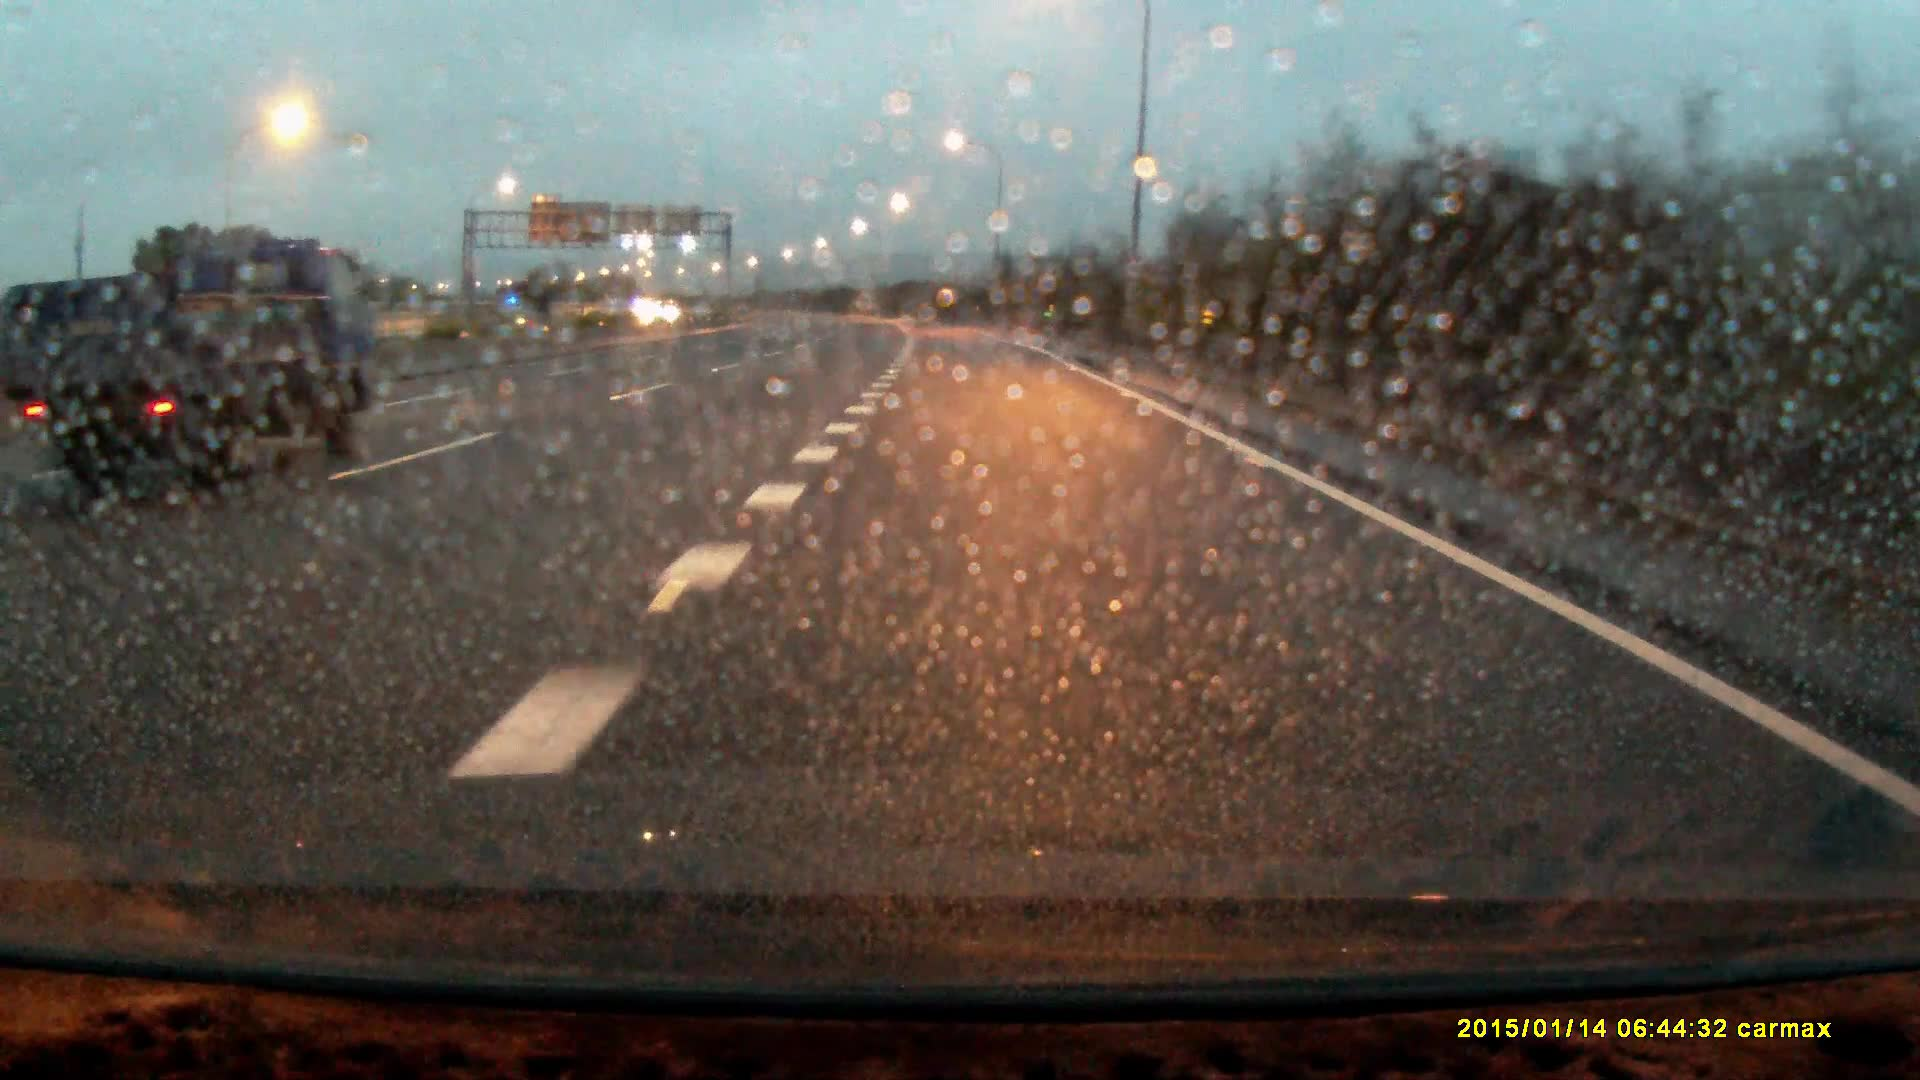vehicle: (11, 227, 378, 504)
